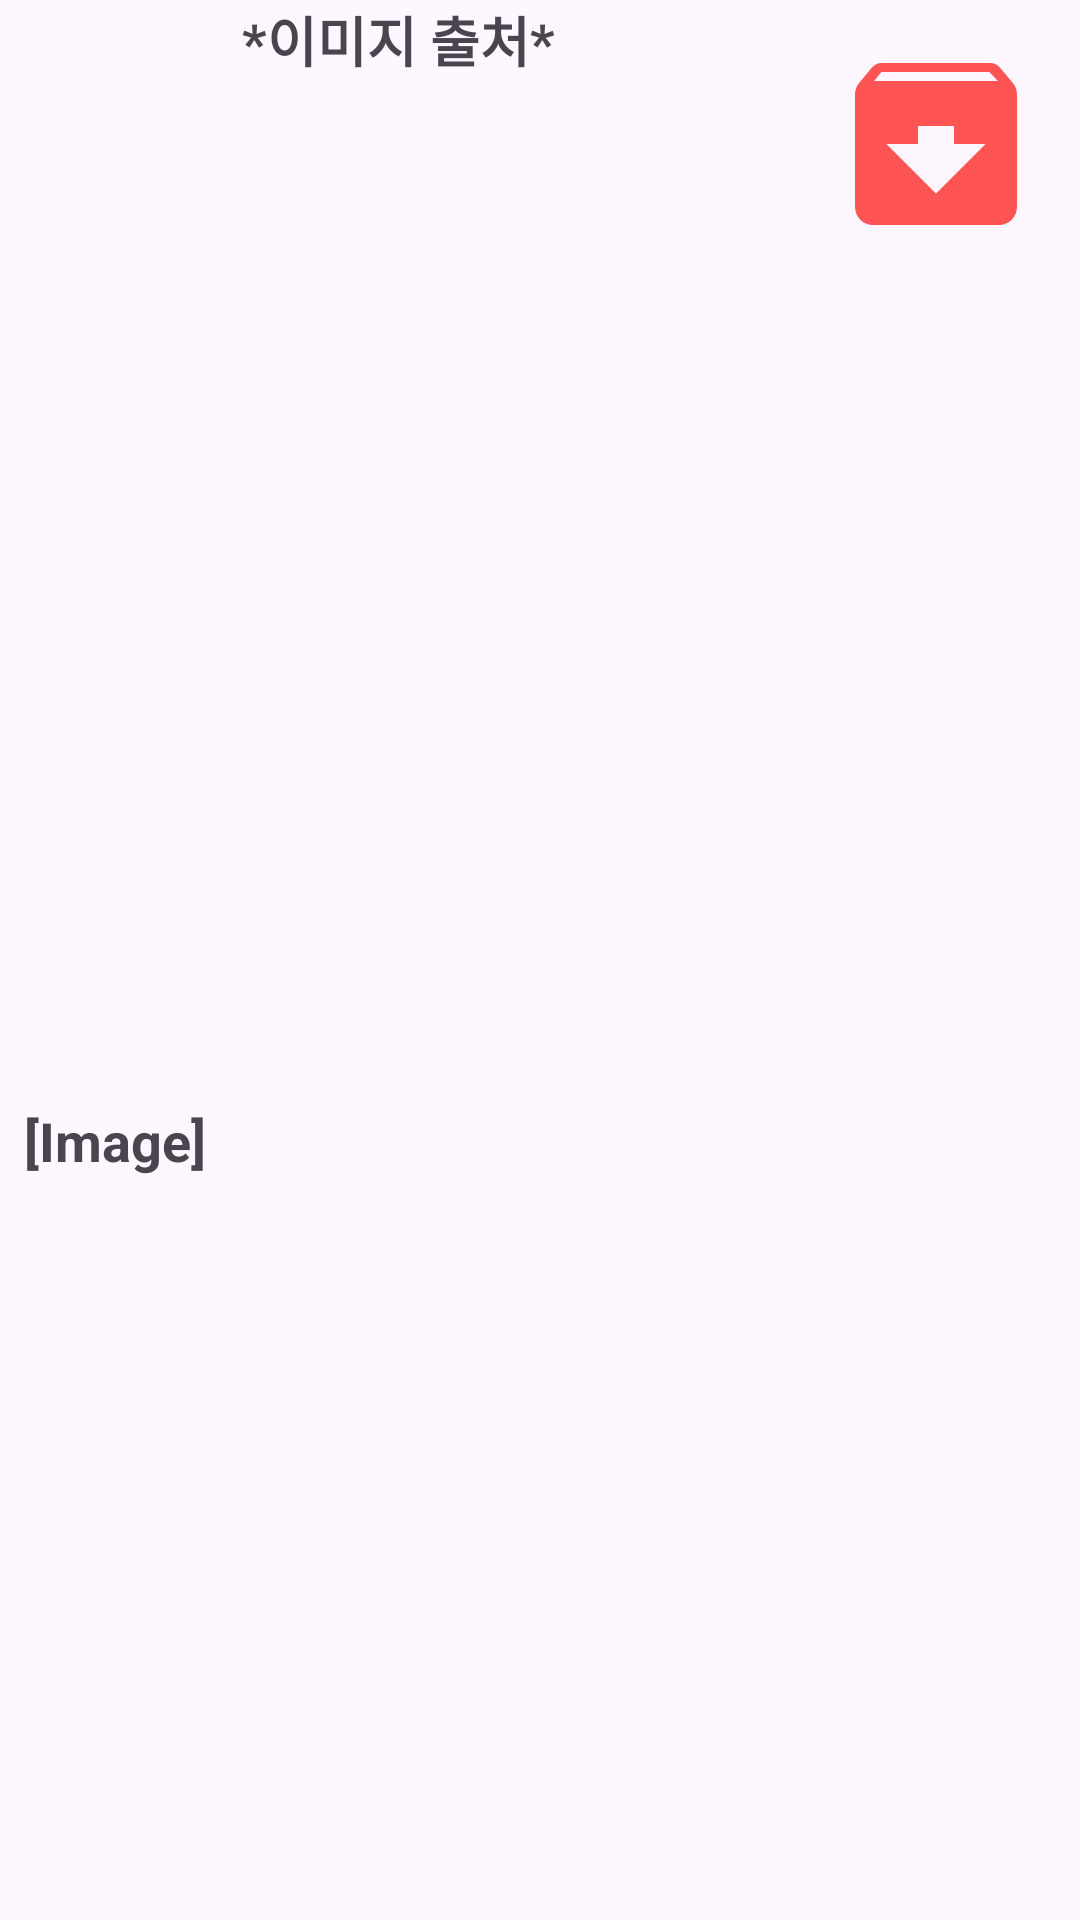

Screen size 1080*1920. Icon name, then its center in pixels as point (x, y):
archive: point (936, 144)
